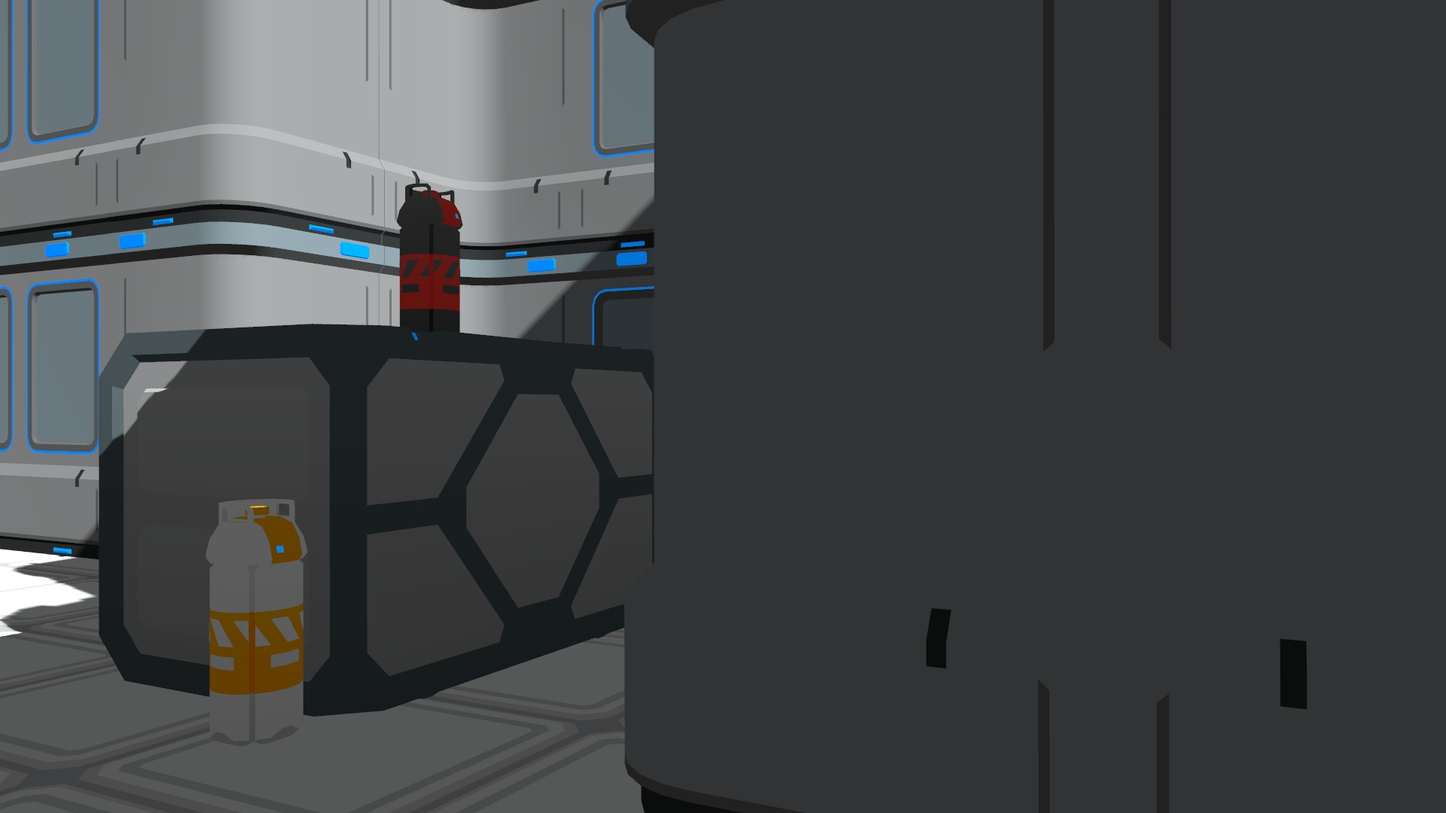red_barrel: (396, 181, 466, 333)
yellow_barrel: (204, 496, 309, 750)
